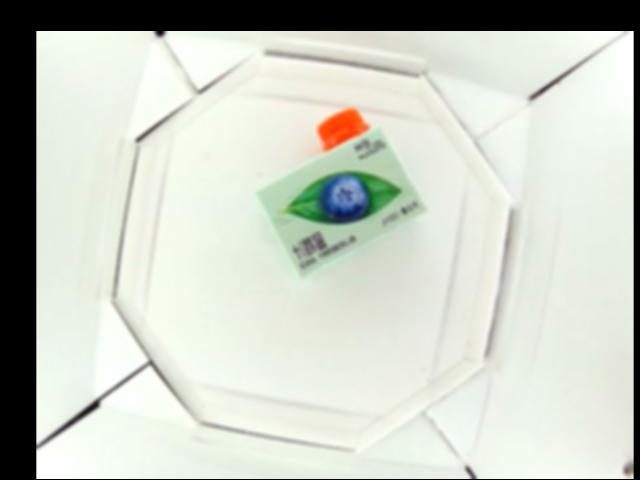Bottle: (254, 107, 424, 277)
